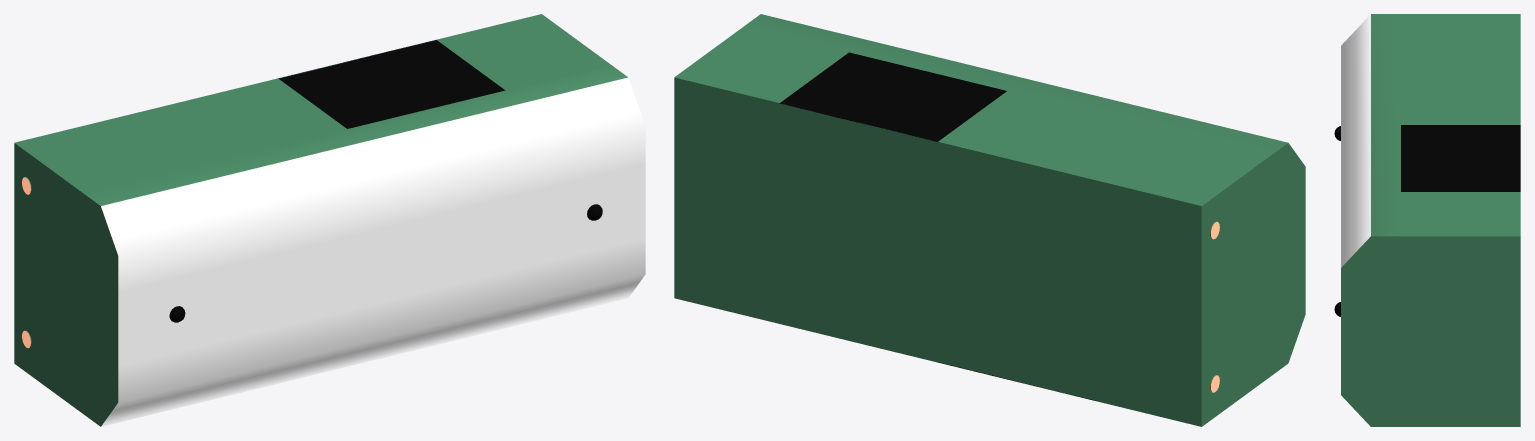
The model's file is asset3.glb.
The picture shows the model from 3 angles, left to right: view 1: azimuth 30°, elevation 25°; view 2: azimuth 150°, elevation 25°; view 3: azimuth 270°, elevation 25°; orthographic projection. The views are drawn at different scales.
Visible parts, largest first — view 1: sphere2; view 2: sphere2; view 3: sphere2.
Part boxes in pixels (<box>): sphere2: <box>14,14,645,426</box>; sphere2: <box>674,14,1305,426</box>; sphere2: <box>1341,14,1520,426</box>.
Size of what is drawn, in the model's own units: 1 by 0.4 by 0.3537.
